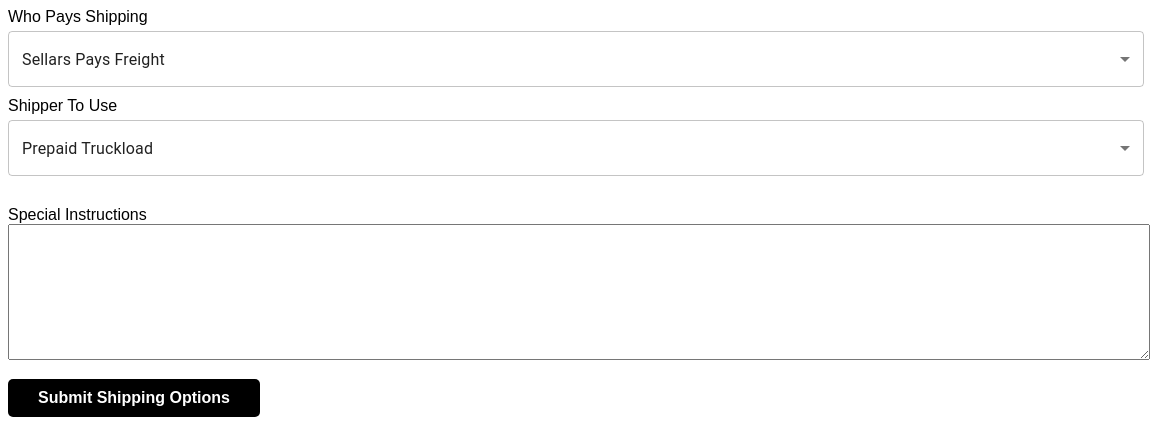
Test case: CustomForm › Who Pays Shipping Dropdown options are visible
Click the dropdown labelled "Sellars Pays Freight" at (93, 59), box [22,50,165,68]
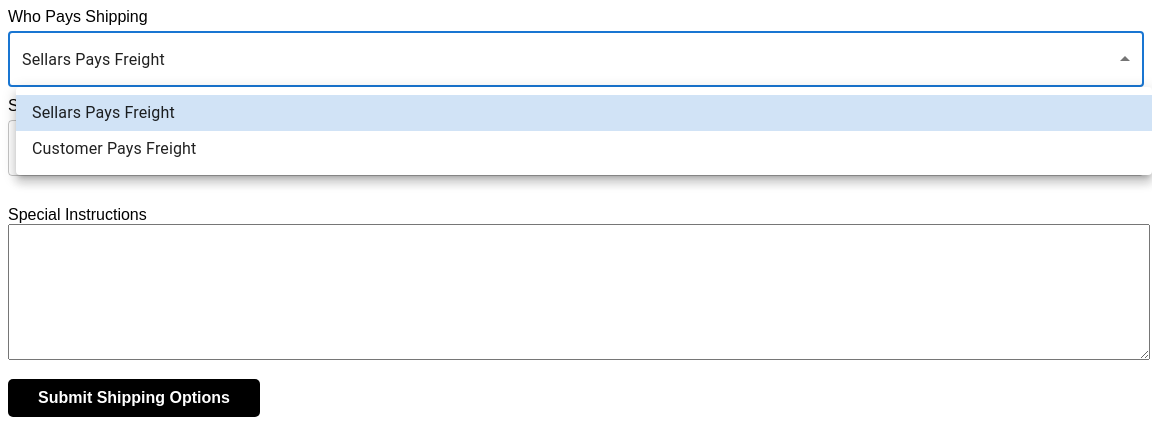
expect the option "Sellars Pays Freight" is shown: met, box [16,95,1152,131]
expect the option "Customer Pays Freight" is shown: met, box [32,139,196,158]
